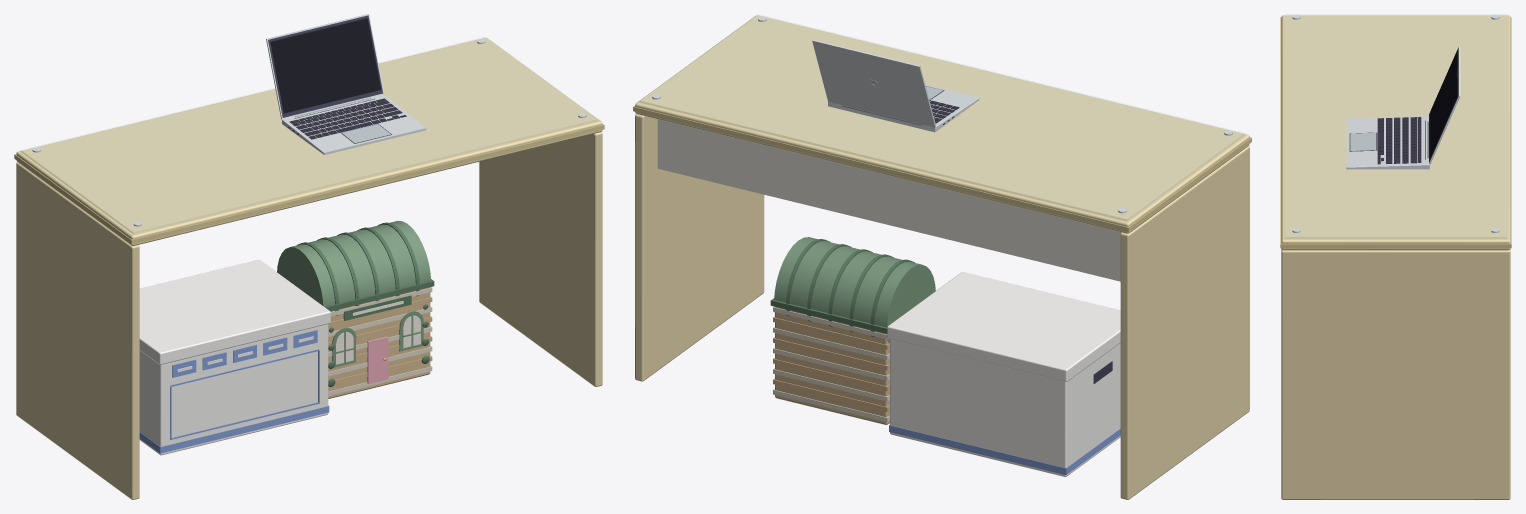
Rendered from bureau.glb.
3 views of the same model, side by side, from view 1: azimuth 30°, elevation 25°; view 2: azimuth 150°, elevation 25°; view 3: azimuth 270°, elevation 25° (orthographic). The views are drawn at different scales.
Parts seen in each view (by area): view 1: bureau, ecran-mac, objet_mac, pivot_capot; view 2: bureau, pivot_capot, objet_mac; view 3: bureau, objet_mac, ecran-mac, pivot_capot.
Part boxes in pixels (x1,y1,x2,y2): bureau: (14,37,604,499); ecran-mac: (270,18,380,113); objet_mac: (282,94,426,154); pivot_capot: (266,14,384,119); bureau: (633,14,1251,499); pivot_capot: (812,39,936,127); objet_mac: (828,84,979,132); bureau: (1280,14,1511,499); objet_mac: (1346,116,1429,169); ecran-mac: (1430,51,1456,157); pivot_capot: (1429,47,1460,164).
Size of the model in its own units: 1.4 by 0.9682 by 0.604.
